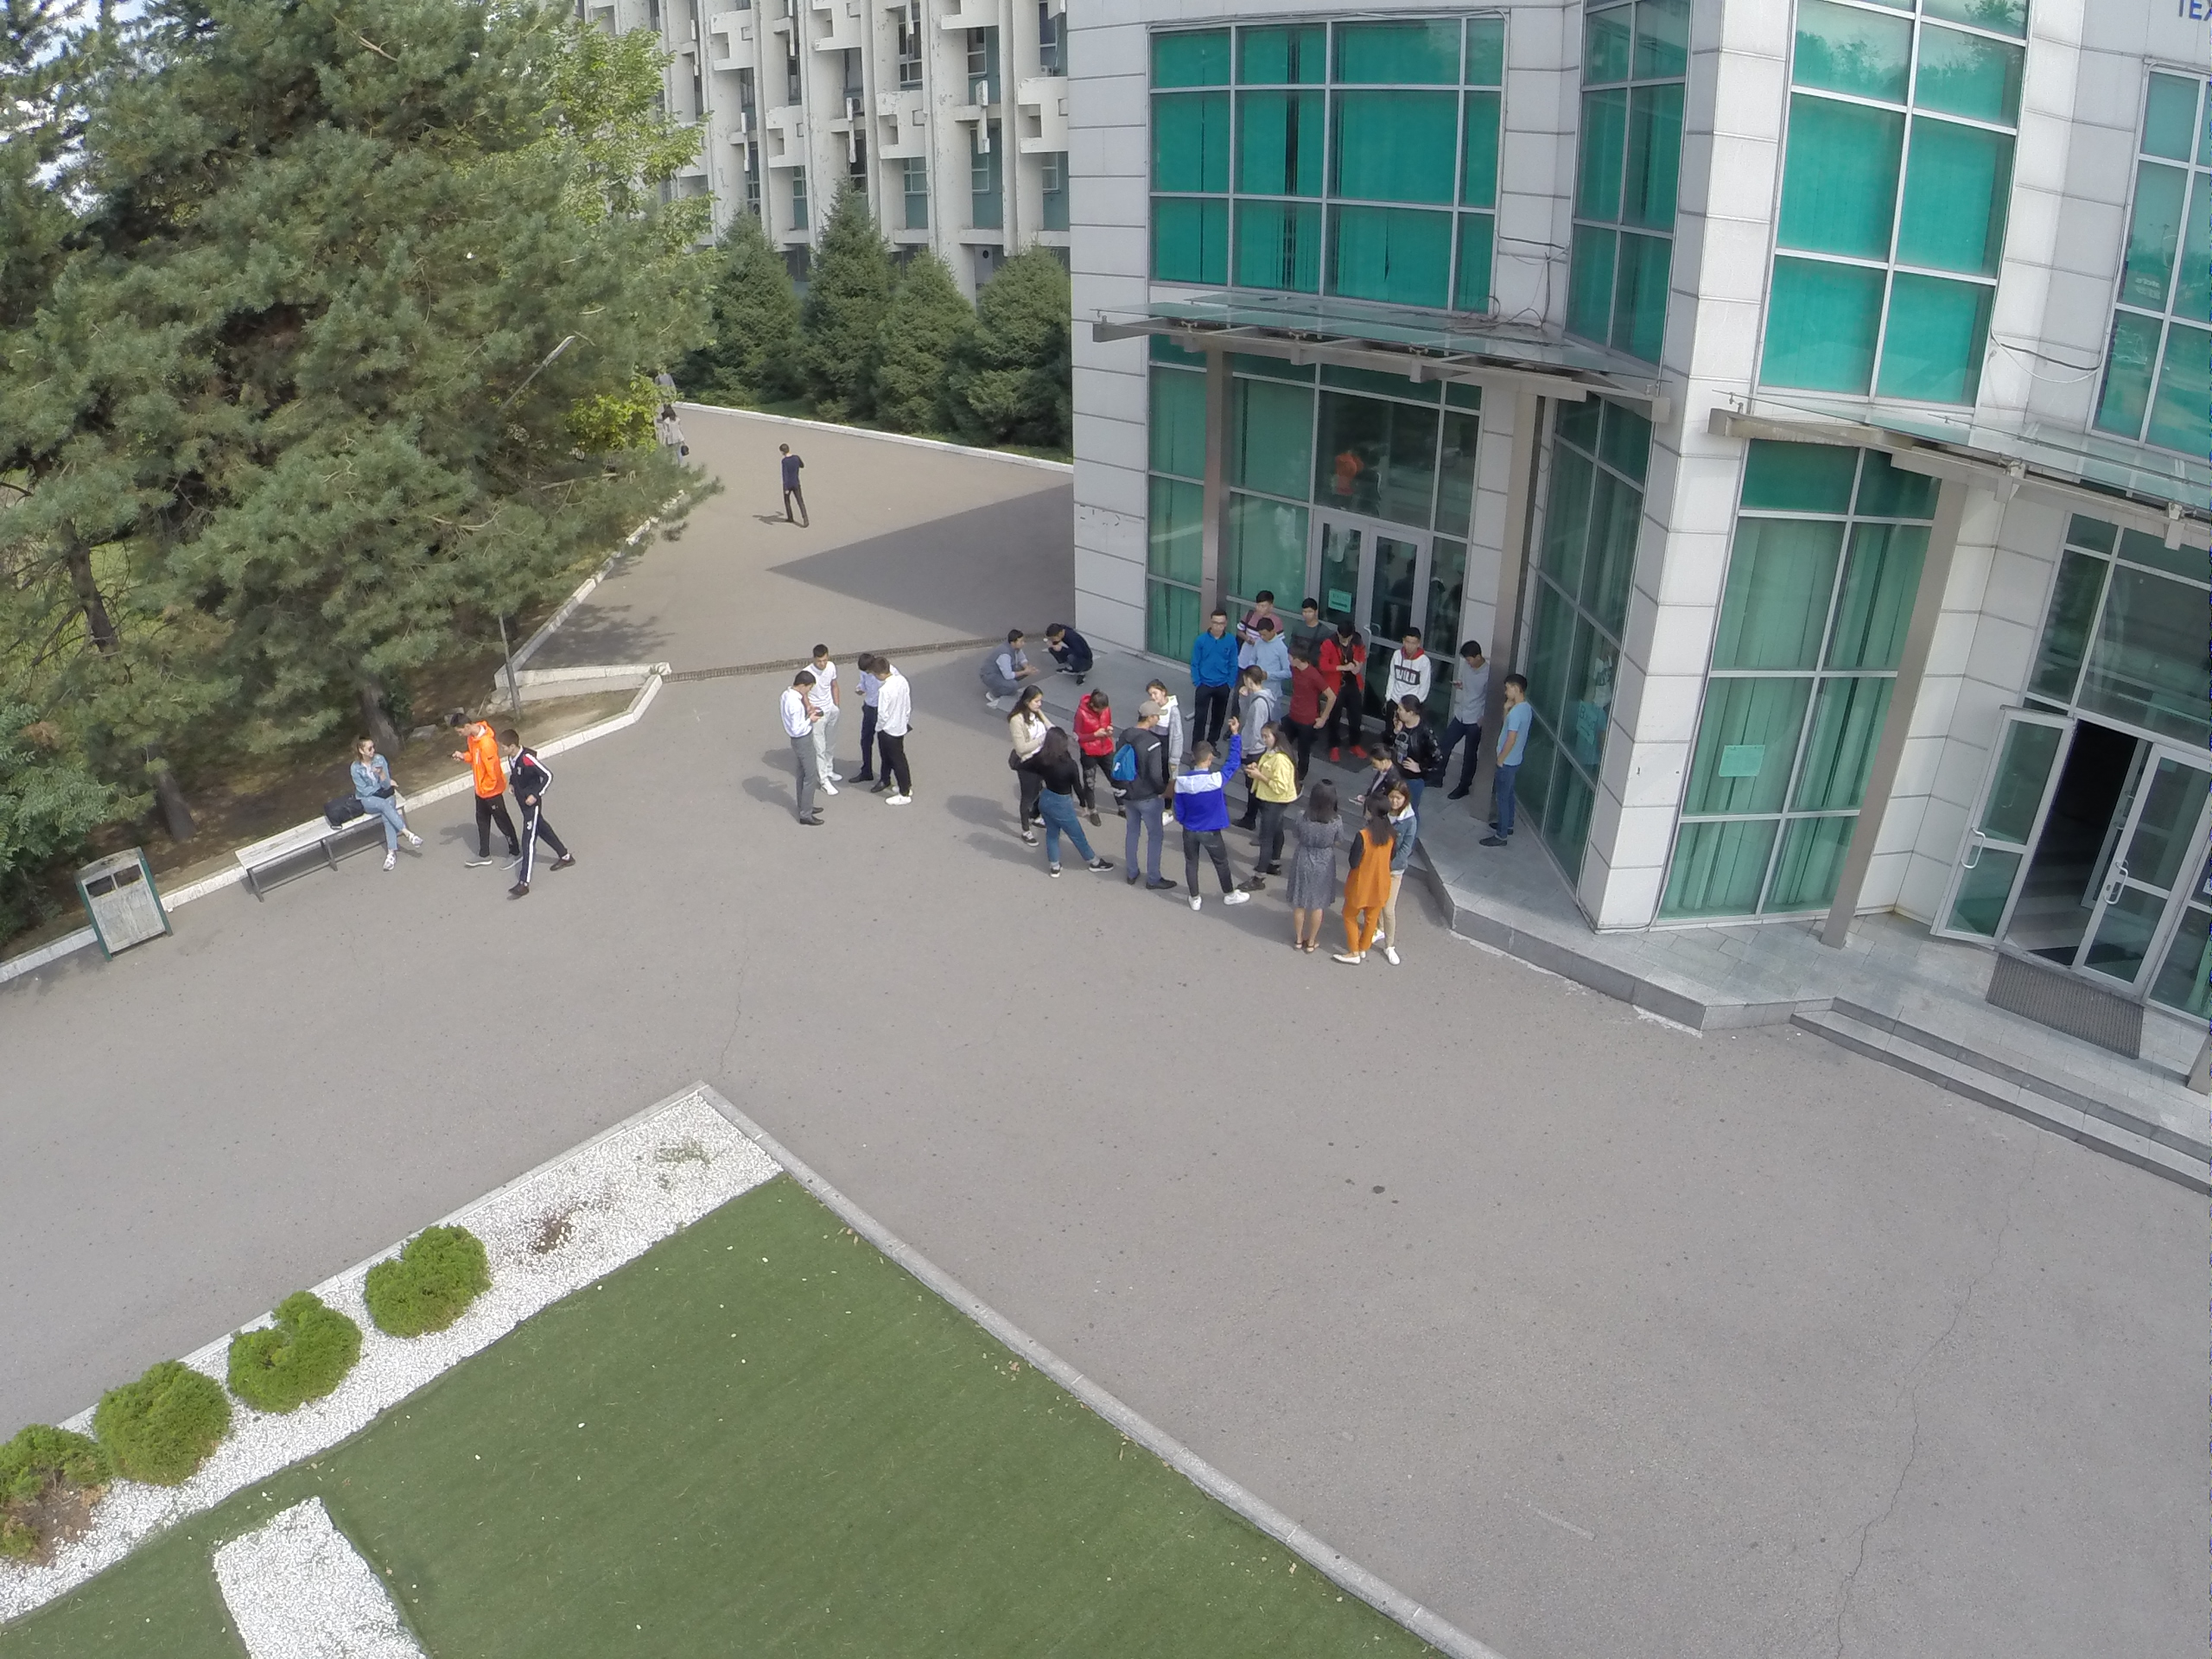person: (1174, 719, 1253, 912), (499, 729, 577, 909), (1114, 698, 1175, 898), (1040, 721, 1113, 887), (448, 710, 516, 876), (1282, 772, 1342, 957), (352, 735, 427, 872), (1482, 671, 1538, 853), (1376, 778, 1424, 982), (778, 671, 829, 834), (1006, 682, 1053, 855), (1249, 716, 1297, 883), (804, 639, 848, 803), (1444, 638, 1490, 798), (873, 656, 916, 812), (1329, 614, 1372, 766), (1077, 678, 1119, 814), (1344, 803, 1378, 962), (1197, 608, 1236, 744), (973, 623, 1032, 700), (1386, 693, 1440, 774), (1045, 616, 1096, 687), (852, 644, 876, 788), (774, 440, 812, 528), (1389, 626, 1433, 696), (1147, 675, 1192, 746), (1296, 594, 1324, 659), (1249, 589, 1274, 630)
